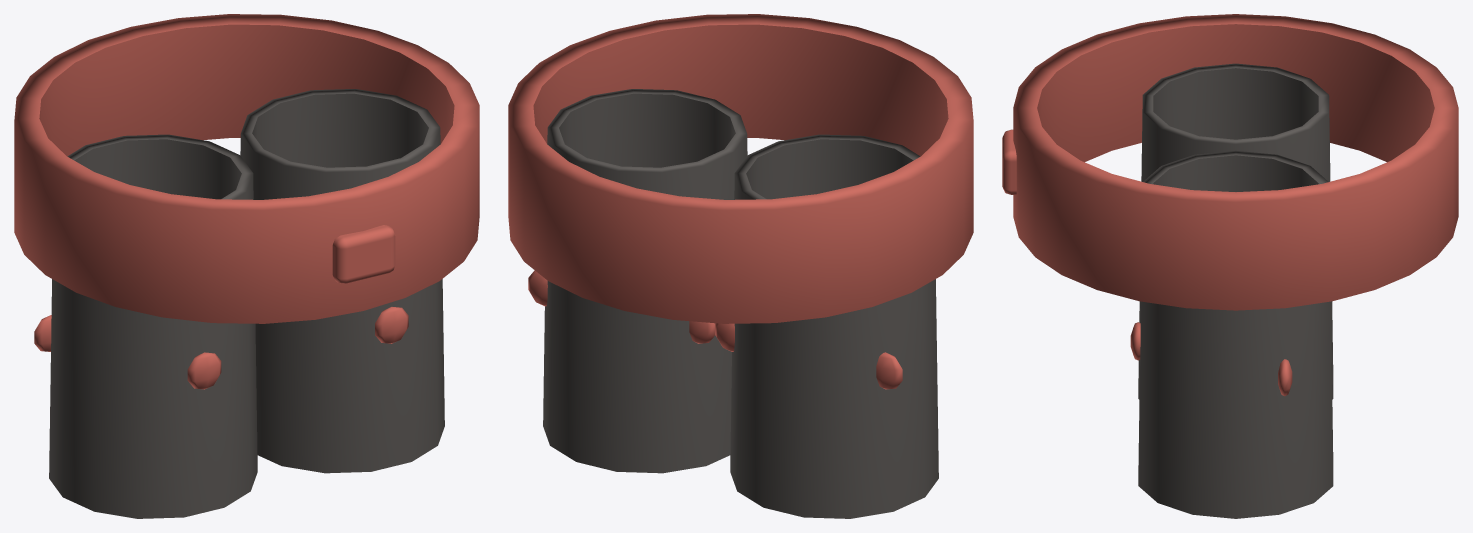
The model's file is checkered_school_pants.glb.
3 renders of one model, left to right at view 1: azimuth 30°, elevation 25°; view 2: azimuth 150°, elevation 25°; view 3: azimuth 270°, elevation 25°, orthographic. The views are drawn at different scales.
Visible parts, largest first — view 1: checkered_school_pants_Body, checkered_school_pants_LegL, checkered_school_pants_LegR; view 2: checkered_school_pants_Body, checkered_school_pants_LegL, checkered_school_pants_LegR; view 3: checkered_school_pants_Body, checkered_school_pants_LegR, checkered_school_pants_LegL.
Part boxes in pixels (x1=…): checkered_school_pants_Body: x1=14, y1=14, x2=479, y2=323; checkered_school_pants_LegL: x1=34, y1=134, x2=257, y2=518; checkered_school_pants_LegR: x1=240, y1=89, x2=444, y2=473; checkered_school_pants_Body: x1=508, y1=14, x2=973, y2=323; checkered_school_pants_LegL: x1=715, y1=134, x2=938, y2=518; checkered_school_pants_LegR: x1=528, y1=89, x2=747, y2=473; checkered_school_pants_Body: x1=1002, y1=14, x2=1458, y2=310; checkered_school_pants_LegR: x1=1130, y1=150, x2=1333, y2=518; checkered_school_pants_LegL: x1=1138, y1=63, x2=1333, y2=399.
Bounding box in the file's own units: 0.41 × 0.33 × 0.42.
